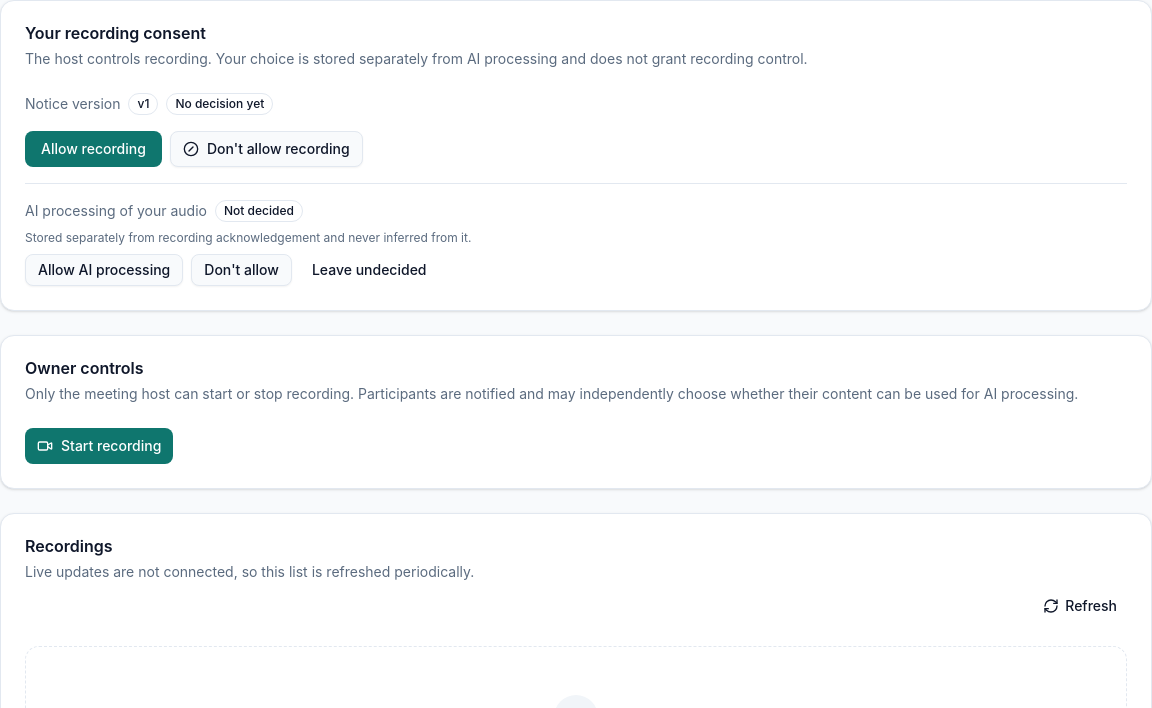
Test: RecordingPanel host controls › keeps a server-enforced non-host denial as an action failure
Click the button with test id "start-recording".
click(99, 446)  # box [25,428,173,464]
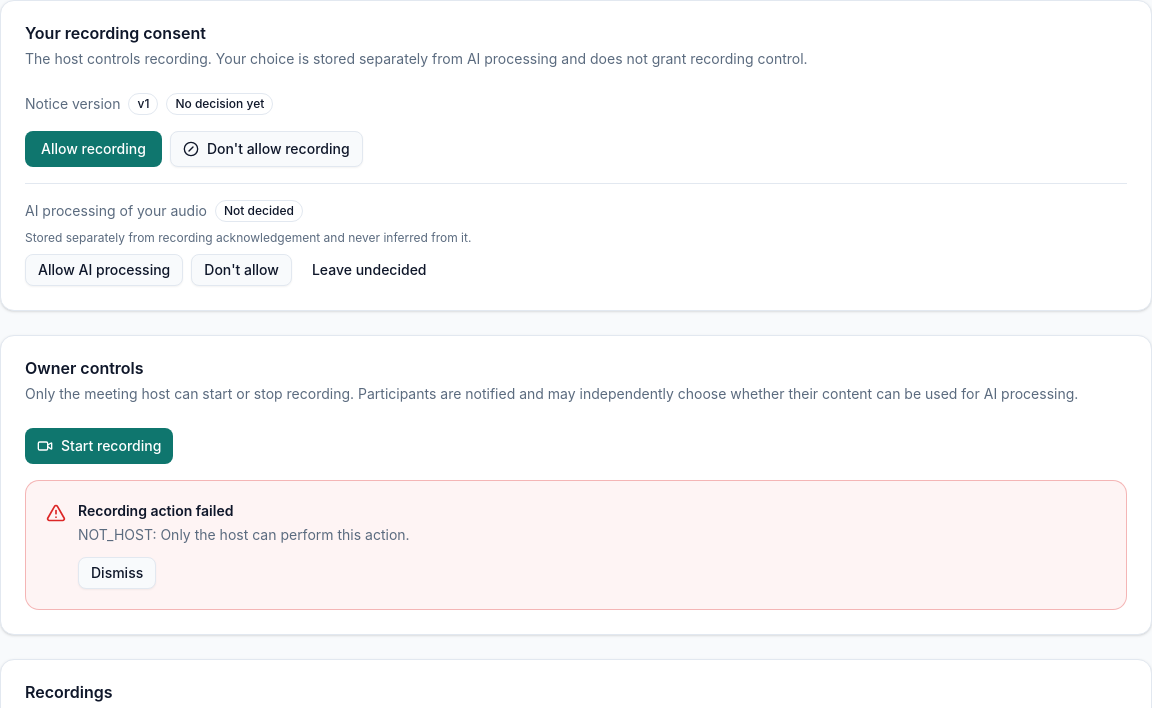
Now the text "NOT_HOST: Only the host can perform this action." is shown, box [78,525,410,545]
